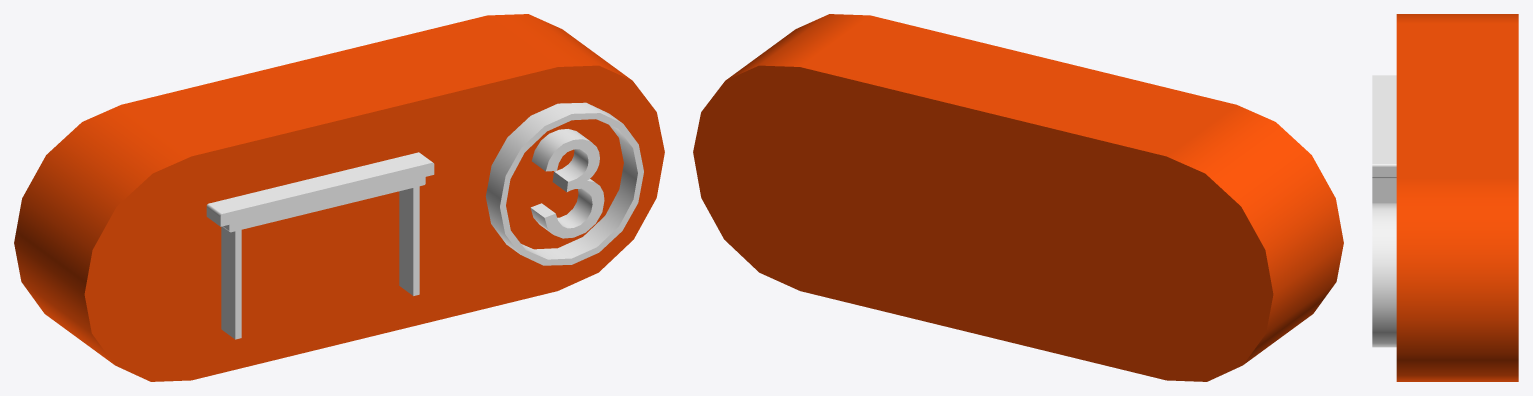
The model's file is Table_3.fbx.
3 views of the same model, side by side, from view 1: azimuth 30°, elevation 25°; view 2: azimuth 150°, elevation 25°; view 3: azimuth 270°, elevation 25° (orthographic). The views are drawn at different scales.
Visible parts, largest first — view 1: Orange, Object_1, Object_11, Object_6, Object_7, Object_4, Object_9, Object_5; view 2: Orange; view 3: Orange, Object_1, Object_6, Object_9, Object_7.
Boxes of the visible parts, x1,y1,x2,y2 form: Orange: (14, 14, 664, 381); Object_1: (485, 102, 643, 265); Object_11: (530, 129, 604, 238); Object_6: (206, 152, 433, 216); Object_7: (206, 152, 434, 226); Object_4: (221, 227, 241, 339); Object_9: (399, 188, 419, 295); Object_5: (222, 177, 425, 232); Orange: (693, 14, 1343, 381); Orange: (1396, 14, 1518, 381); Object_1: (1372, 203, 1396, 347); Object_6: (1372, 75, 1396, 163); Object_9: (1372, 178, 1396, 203); Object_7: (1372, 164, 1396, 175).
Bounding box in the file's own units: 4.75 × 1.2 × 1.75.
